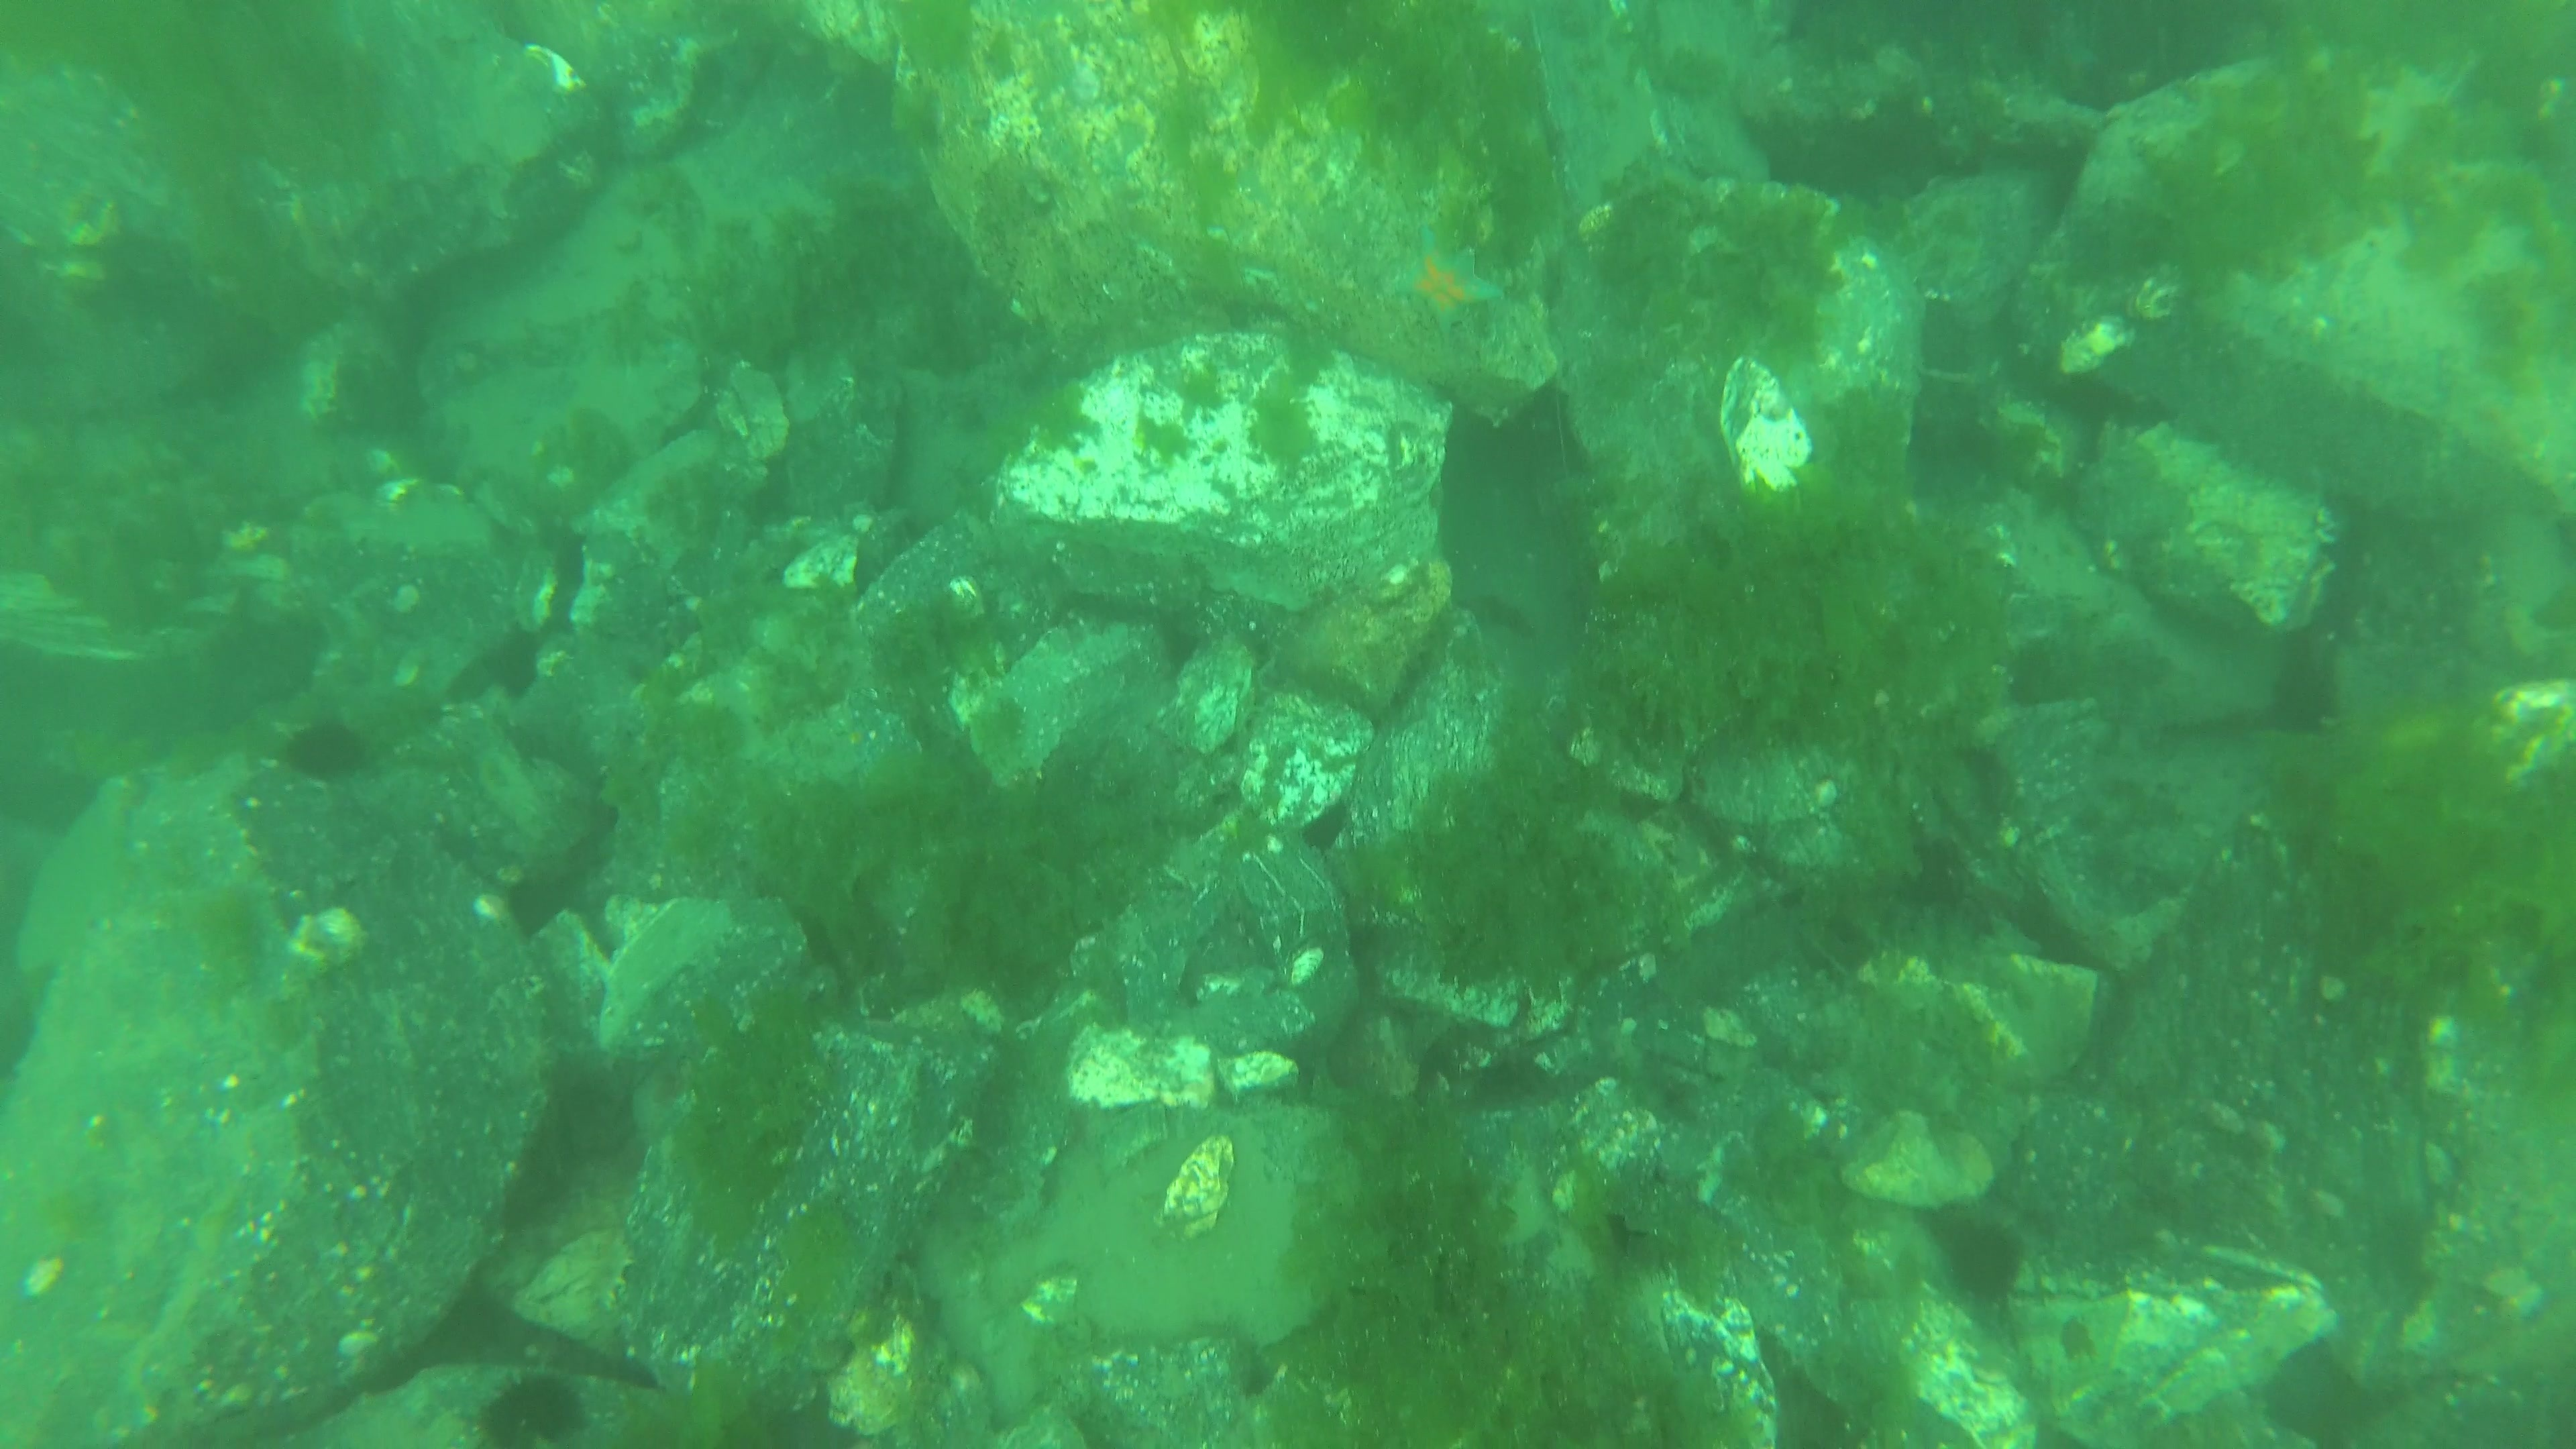echinus: (1943, 1208, 2035, 1318), (474, 1371, 587, 1449), (278, 715, 366, 784)
starfish: (1389, 232, 1499, 334)
